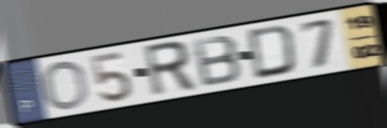5: (88, 49, 134, 105)
7: (299, 16, 338, 70)
B: (190, 33, 244, 90)
D: (246, 23, 299, 82)
O: (41, 59, 91, 112)
R: (141, 39, 199, 100)
